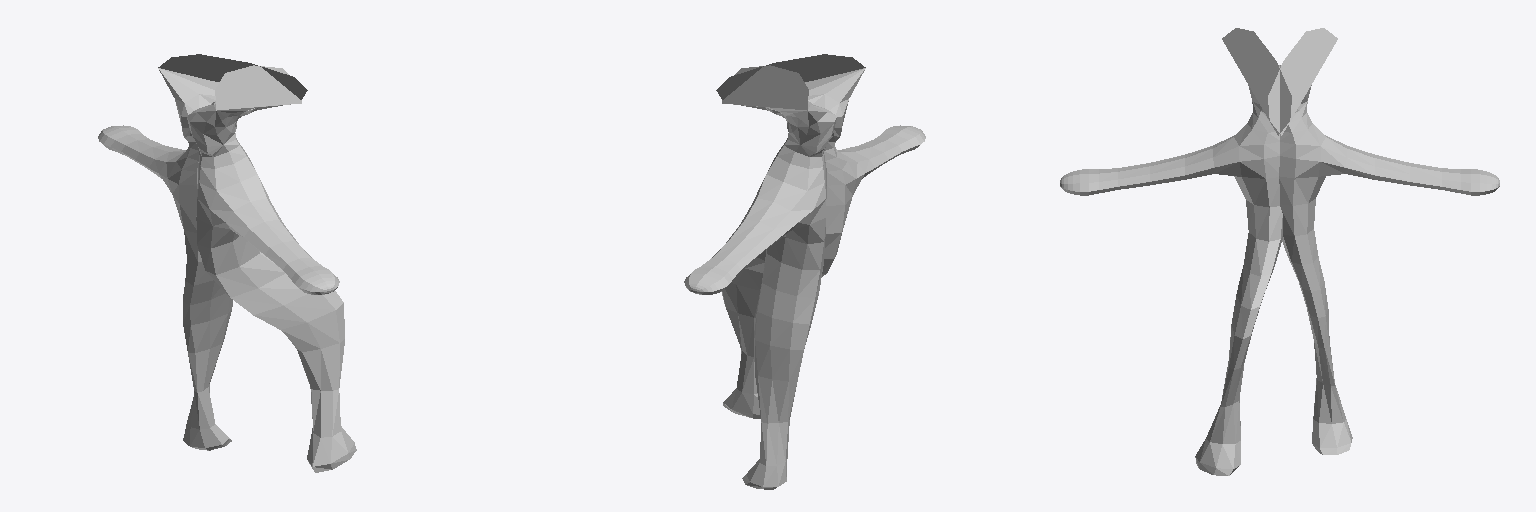
The model's file is cowboy_000038.obj.
The picture shows the model from 3 angles: view 1: azimuth 30°, elevation 25°; view 2: azimuth 150°, elevation 25°; view 3: azimuth 270°, elevation 25°; orthographic projection.
Parts seen in each view (by area): view 1: Cube; view 2: Cube; view 3: Cube.
Part boxes in pixels (bbox=[...]): Cube: bbox=[98, 54, 356, 472]; Cube: bbox=[684, 54, 925, 489]; Cube: bbox=[1060, 28, 1499, 475].
Bounding box in the file's own units: 5.31 × 14.58 × 14.33.